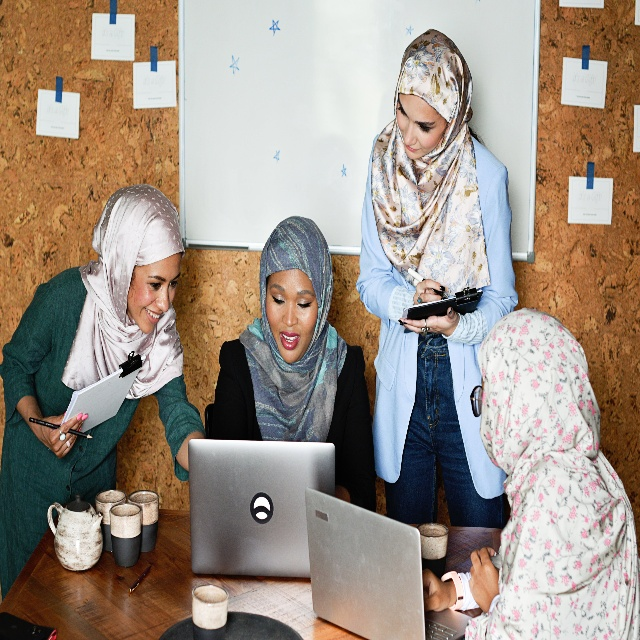Gafas: (468, 380, 486, 415)
Sin_guantes: (37, 406, 88, 457), (466, 544, 499, 612), (423, 567, 461, 617), (400, 312, 457, 337), (415, 277, 445, 308)
